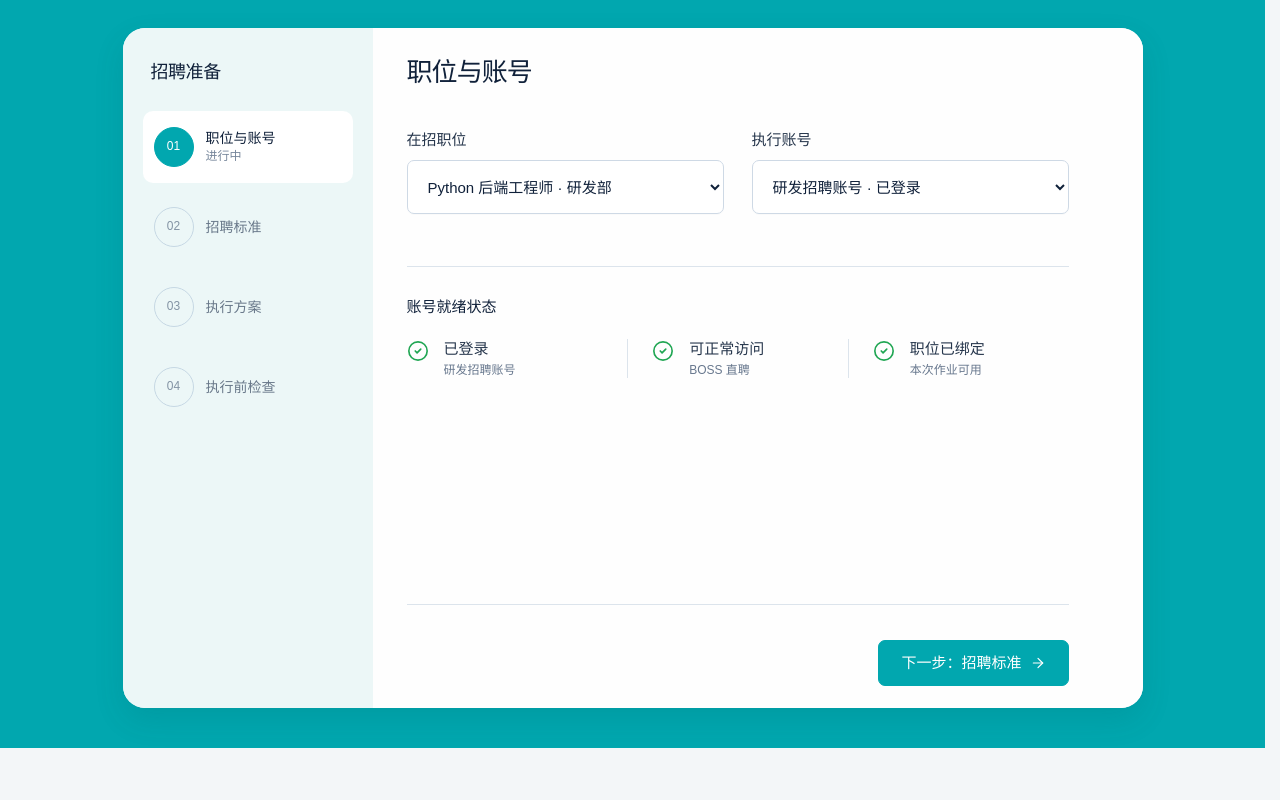
Test: RecruitmentWorkbenchView › continues to the next step when session storage rejects draft writes
Click the button with test id "complete-context-step" at (974, 662), box [878,640,1068,686]
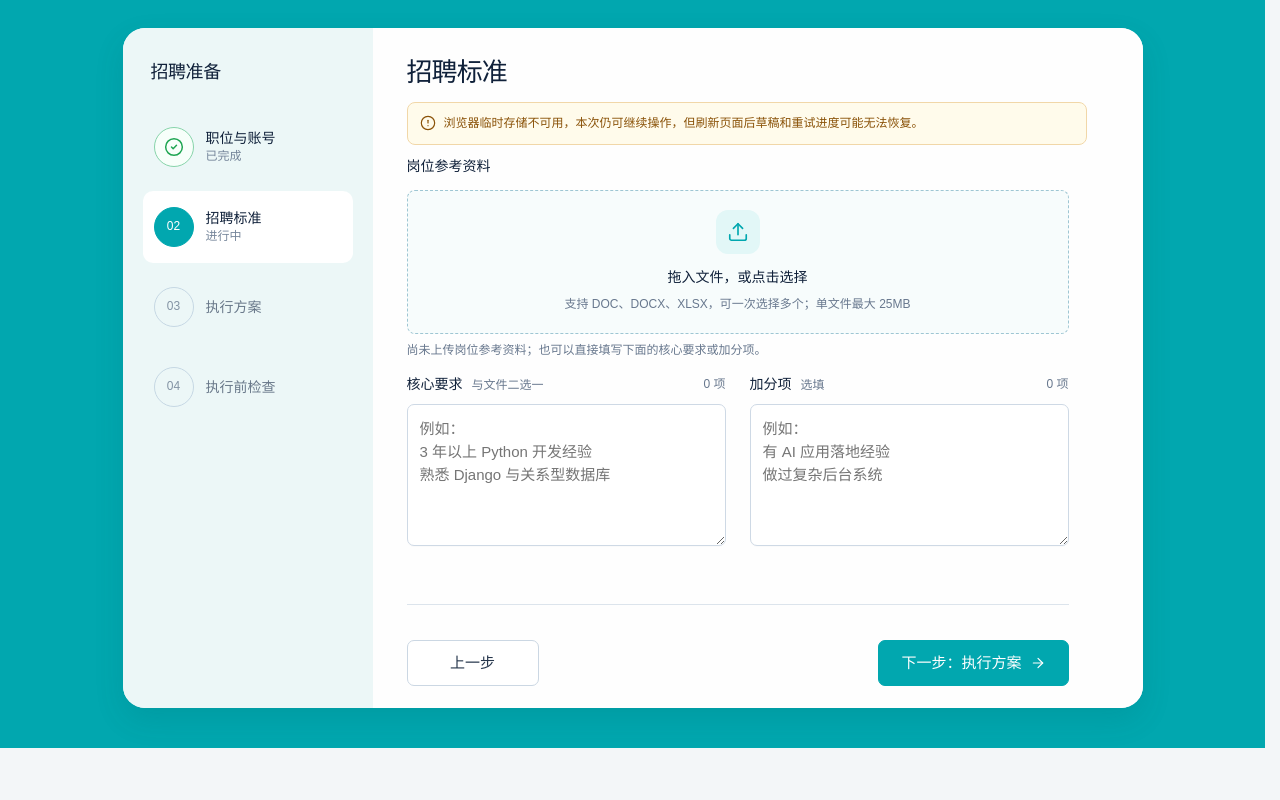
Check: the element with test id "workbench-step-standard" is shown, box [406,155,1068,708]
Check: the text "浏览器临时存储不可用" is shown, box [444,116,924,130]
